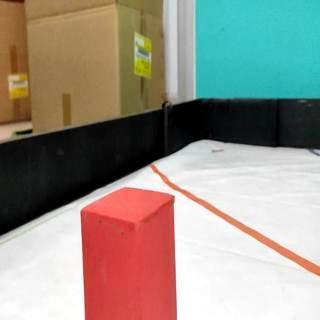redbox: (80, 186, 178, 320)
